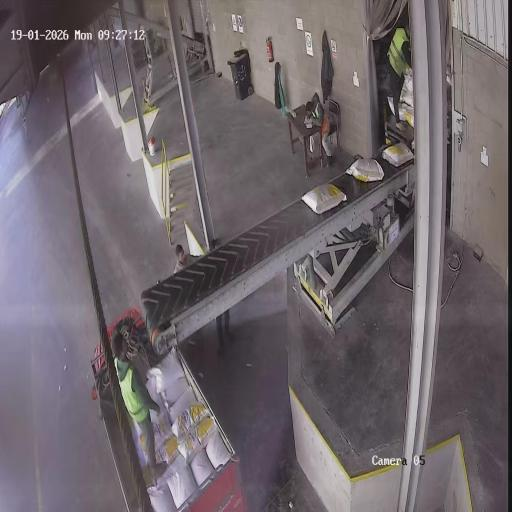c-belt-sack-count: (301, 183, 347, 214), (346, 159, 384, 182), (382, 142, 414, 167)
